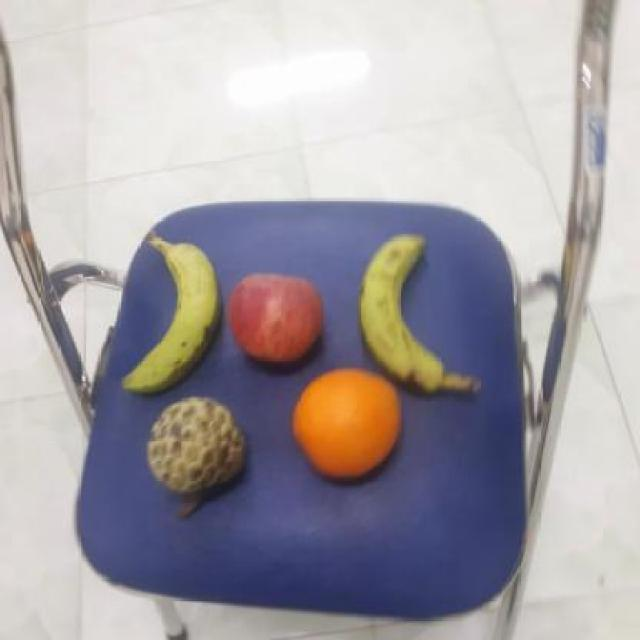apple: (226, 271, 328, 365)
banana: (114, 238, 223, 398), (352, 227, 457, 393)
oren: (289, 366, 403, 479)
sugar apple: (143, 395, 248, 495)
